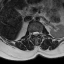CCS_normal: (35, 30, 36, 38)
LFS_normal: (38, 30, 40, 35)
LLS_normal: (36, 30, 38, 36)
RFS_normal: (30, 30, 33, 36)
RLS_normal: (33, 30, 35, 36)
